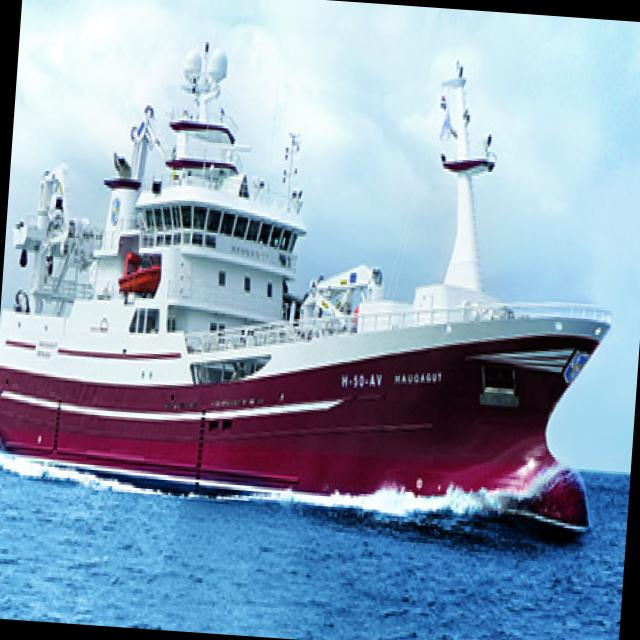boat: (0, 0, 633, 587)
